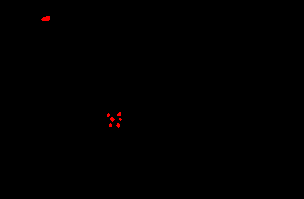Target: (41, 16, 50, 21), (110, 117, 115, 122), (116, 123, 120, 128), (117, 112, 121, 116), (107, 113, 110, 117), (109, 123, 112, 127), (119, 118, 122, 121)
